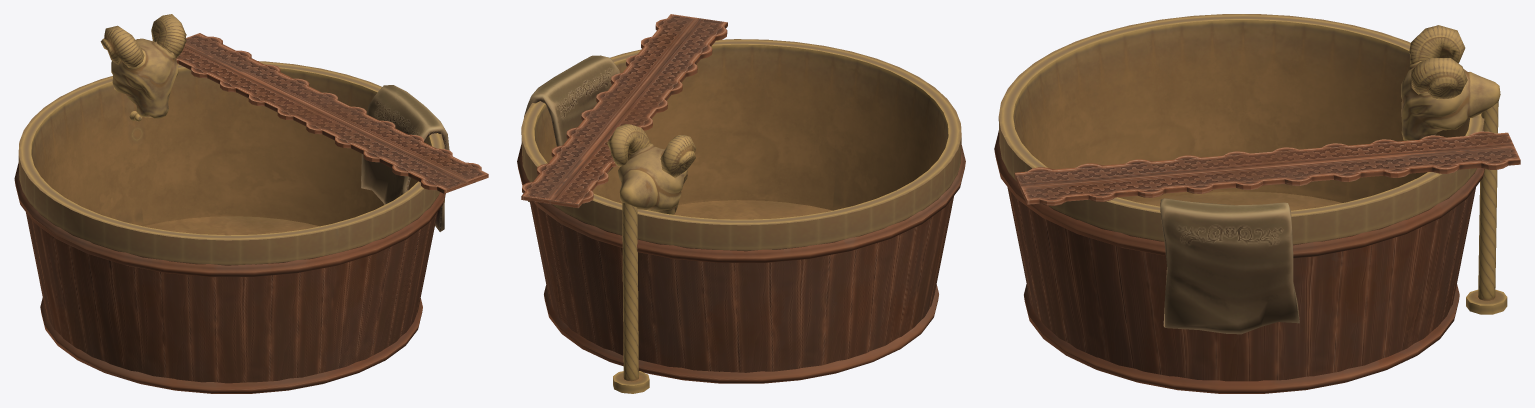
File: SM_Bathtub.fbx
3 renders of one model, left to right at view 1: azimuth 30°, elevation 25°; view 2: azimuth 150°, elevation 25°; view 3: azimuth 270°, elevation 25°, orthographic. The views are drawn at different scales.
Parts seen in each view (by area): view 1: SM_Bathtub_LOD0; view 2: SM_Bathtub_LOD0; view 3: SM_Bathtub_LOD0.
Part boxes in pixels (x1,y1,x2,y2): SM_Bathtub_LOD0: (14,14,488,393); SM_Bathtub_LOD0: (517,14,965,393); SM_Bathtub_LOD0: (994,14,1520,393).
Size of what is drawn, in the model's own units: 1.74 by 1.01 by 1.83.
